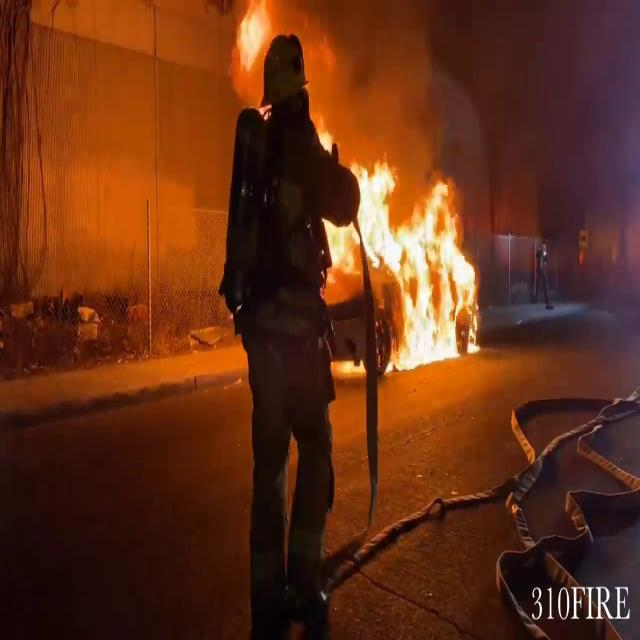Fire: (319, 146, 487, 372)
